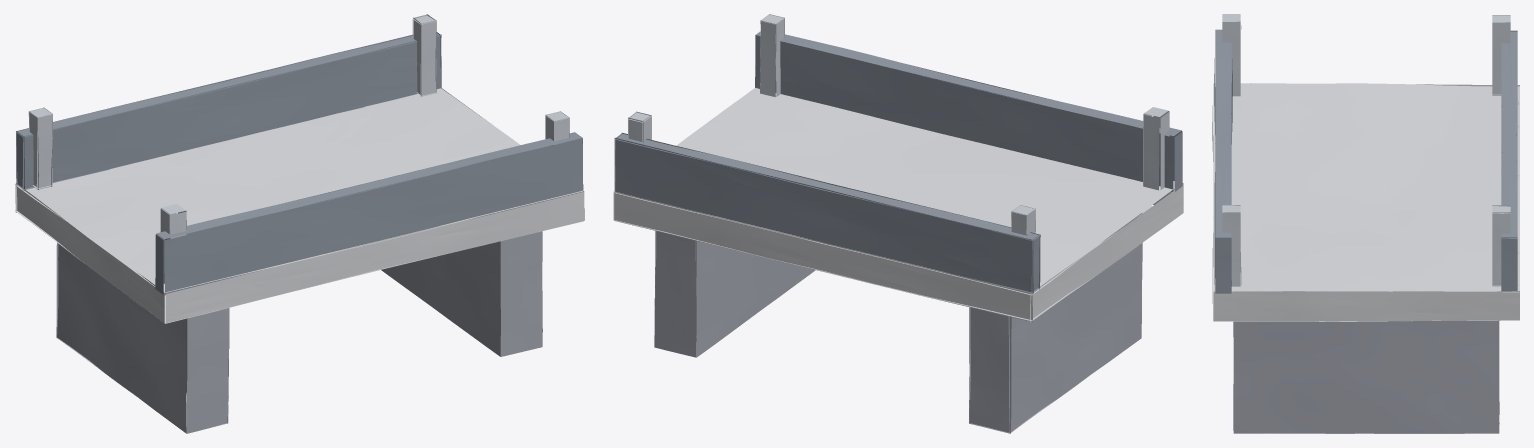
Rendered from bridge.glb.
The picture shows the model from 3 angles, left to right: view 1: azimuth 30°, elevation 25°; view 2: azimuth 150°, elevation 25°; view 3: azimuth 270°, elevation 25°; orthographic projection.
Visible parts, largest first — view 1: MetroBridge; view 2: MetroBridge; view 3: MetroBridge.
Part boxes in pixels (x1,y1,x2,y2): MetroBridge: [15, 14, 584, 433]; MetroBridge: [613, 14, 1183, 433]; MetroBridge: [1212, 14, 1519, 433].
Bounding box in the file's own units: 2.41 × 1.26 × 1.51.
